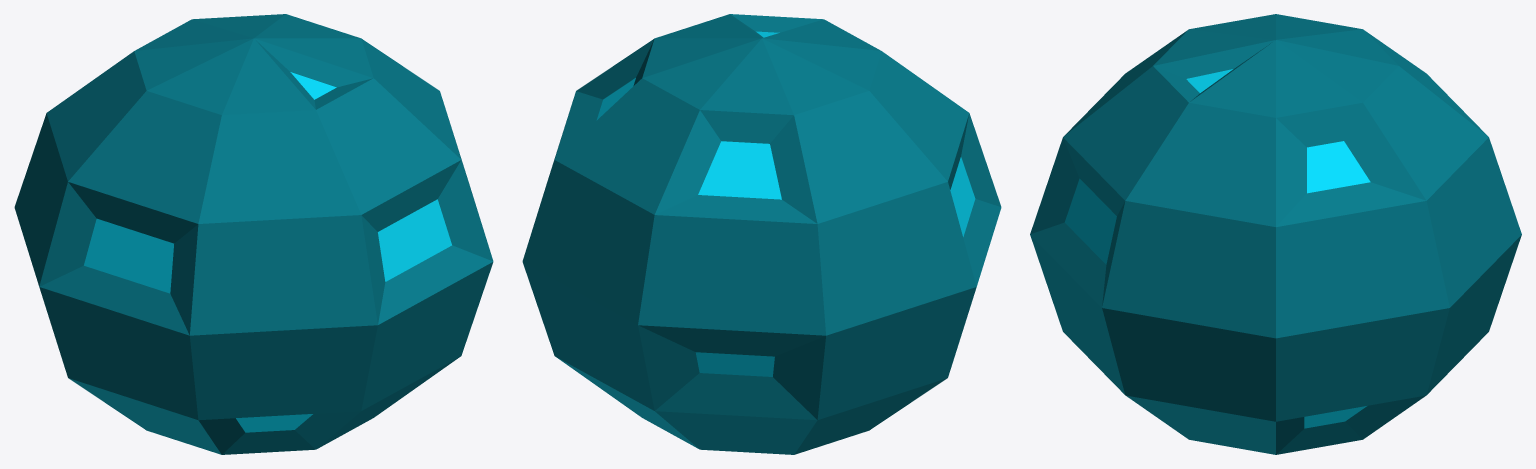
The model's file is Vitoria_Minion_Second.fbx.
3 views of the same model, side by side, from view 1: azimuth 30°, elevation 25°; view 2: azimuth 150°, elevation 25°; view 3: azimuth 270°, elevation 25° (orthographic).
Parts seen in each view (by area): view 1: Sphere; view 2: Sphere; view 3: Sphere.
Part boxes in pixels (<box>): Sphere: <box>14,14,493,454</box>; Sphere: <box>522,14,1001,454</box>; Sphere: <box>1030,14,1521,454</box>.
Size of the model in its own units: 200 by 175 by 200.
